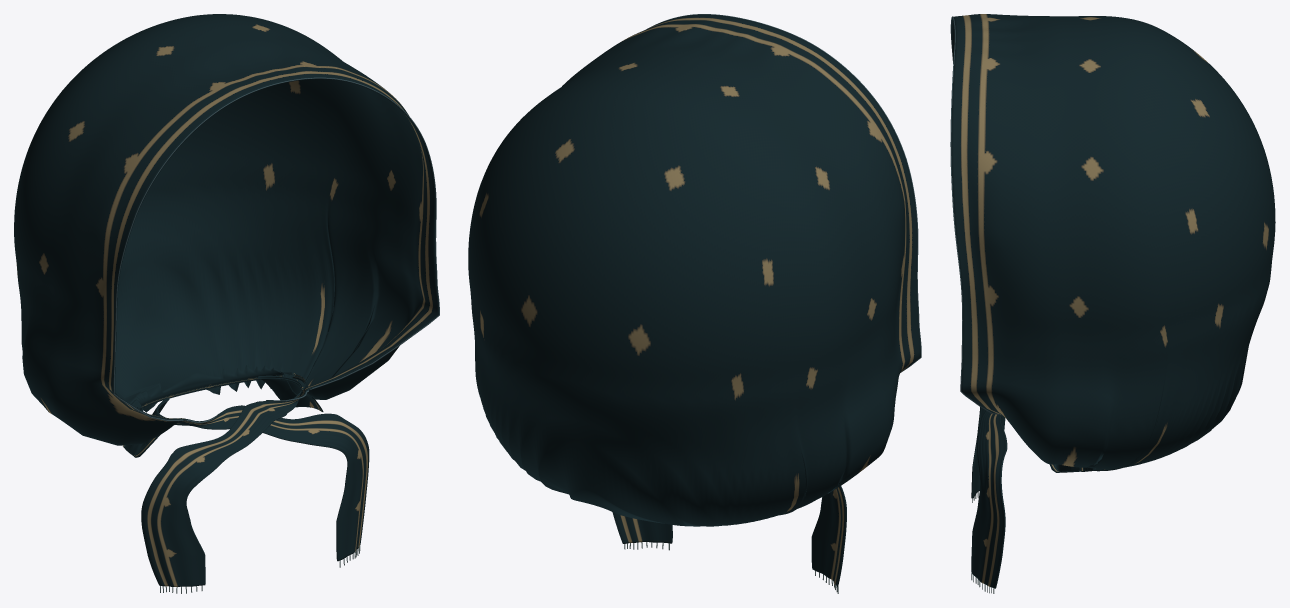
The model's file is Masculine-Masculine-middle-part-jersey-pashmina250-headgear-80ee5d8e.glb.
3 renders of one model, left to right at view 1: azimuth 30°, elevation 25°; view 2: azimuth 150°, elevation 25°; view 3: azimuth 270°, elevation 25°, orthographic. The views are drawn at different scales.
Parts seen in each view (by area): view 1: 226 headgear / Headwear / continuous woven pashmina239, 226 headgear / Headwear / face edge239; view 2: 226 headgear / Headwear / continuous woven pashmina239, 226 headgear / Headwear / face edge239; view 3: 226 headgear / Headwear / continuous woven pashmina239, 226 headgear / Headwear / face edge239.
Boxes of the visible parts, box(x1,y1,x2,y2) form: 226 headgear / Headwear / continuous woven pashmina239: box(14, 14, 438, 586); 226 headgear / Headwear / face edge239: box(113, 77, 439, 422); 226 headgear / Headwear / continuous woven pashmina239: box(468, 14, 920, 586); 226 headgear / Headwear / face edge239: box(647, 14, 921, 372); 226 headgear / Headwear / continuous woven pashmina239: box(951, 14, 1275, 588); 226 headgear / Headwear / face edge239: box(950, 16, 1002, 415).
Bounding box in the file's own units: 0.9074 × 1.23 × 0.7056.
3 materials, 1 textured.
